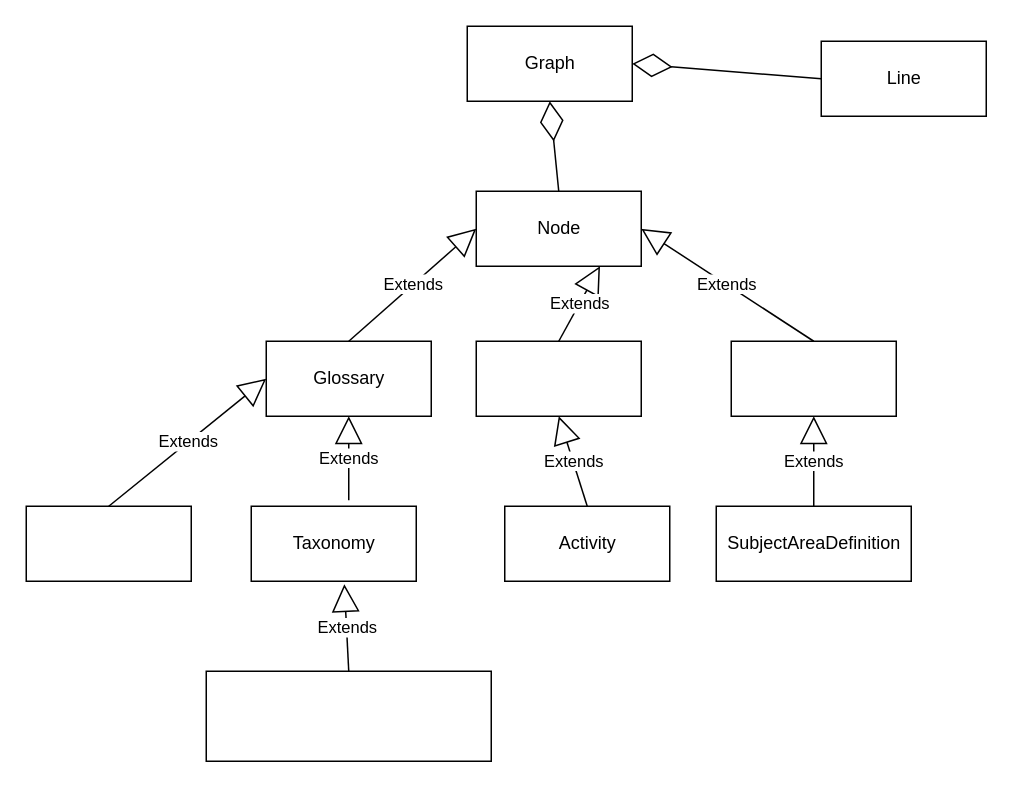
Image size: 1013x788. Some labels were removed from this diagram. The centre of each missing label's shape, as x and y in pixels:
CanonicalGlosssary: point 108,543
CanonicalTaxonomy: point 348,715
Category: point 813,378
Term: point 558,378
